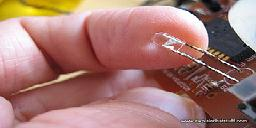LED: (147, 30, 209, 70)
